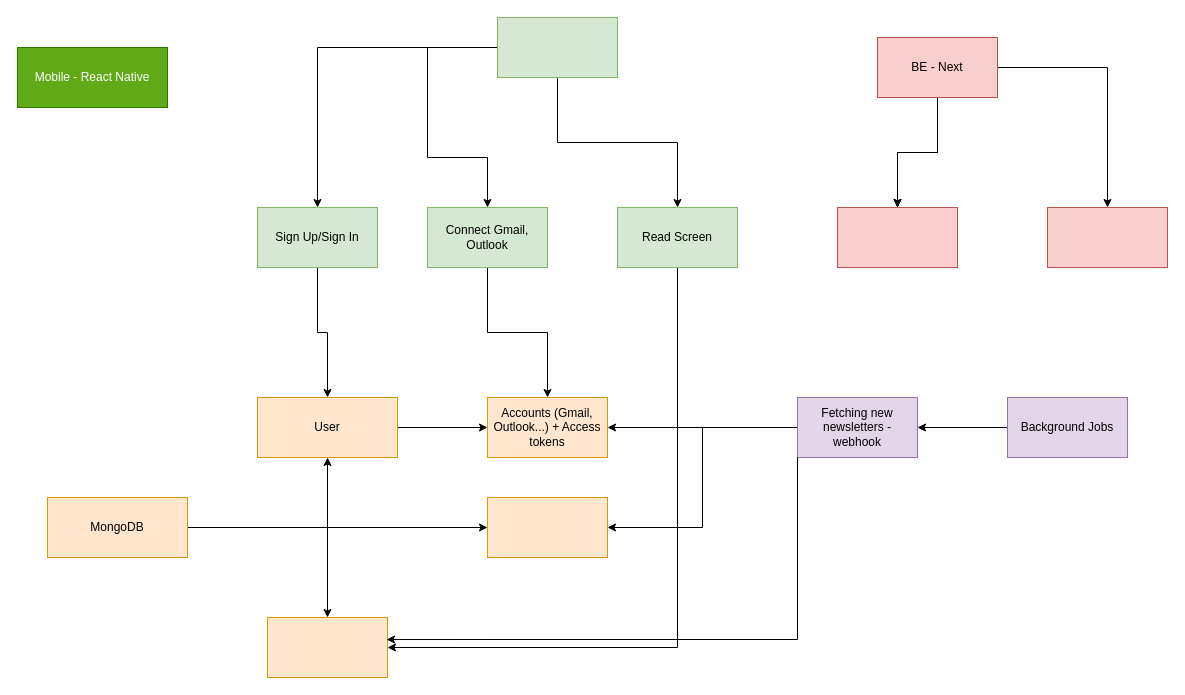
Some shapes in this 1185 by 695 pixel diagram are drawn without their labels. The shapes that lost their labels are listed below. From the top down, each one's centre as x and y in pixels, then its label:
[557,47]: FE - Next, Tailwind
[897,237]: API Gateway
[1107,237]: Notification Service
[547,527]: Filtering Options
[327,647]: Emails - Read/Unread
